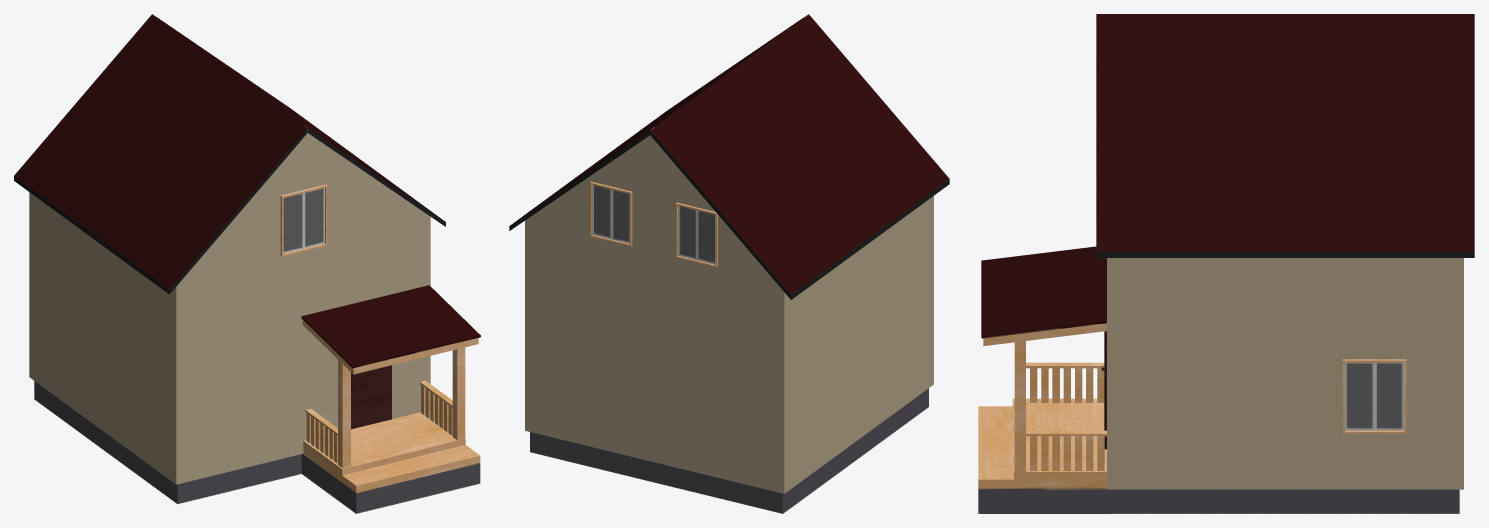
File: House.gltf
3 renders of one model, left to right at view 1: azimuth 30°, elevation 25°; view 2: azimuth 150°, elevation 25°; view 3: azimuth 270°, elevation 25°, orthographic. The views are drawn at different scales.
Parts seen in each view (by area): view 1: base (×2), window1 (×2); view 2: base (×2), windows3 (×2); view 3: base (×2), window2.
Boxes of the visible parts, x1,y1,x2,y2 form: base (×2): (14,14,480,513); window1 (×2): (280,184,327,256); base (×2): (509,14,949,513); windows3 (×2): (590,181,717,267); base (×2): (978,14,1474,513); window2: (1342,359,1406,433).
Bounding box in the file's own units: 4.41 × 5.35 × 5.64.
Materials: 2 (2 with a texture image).
